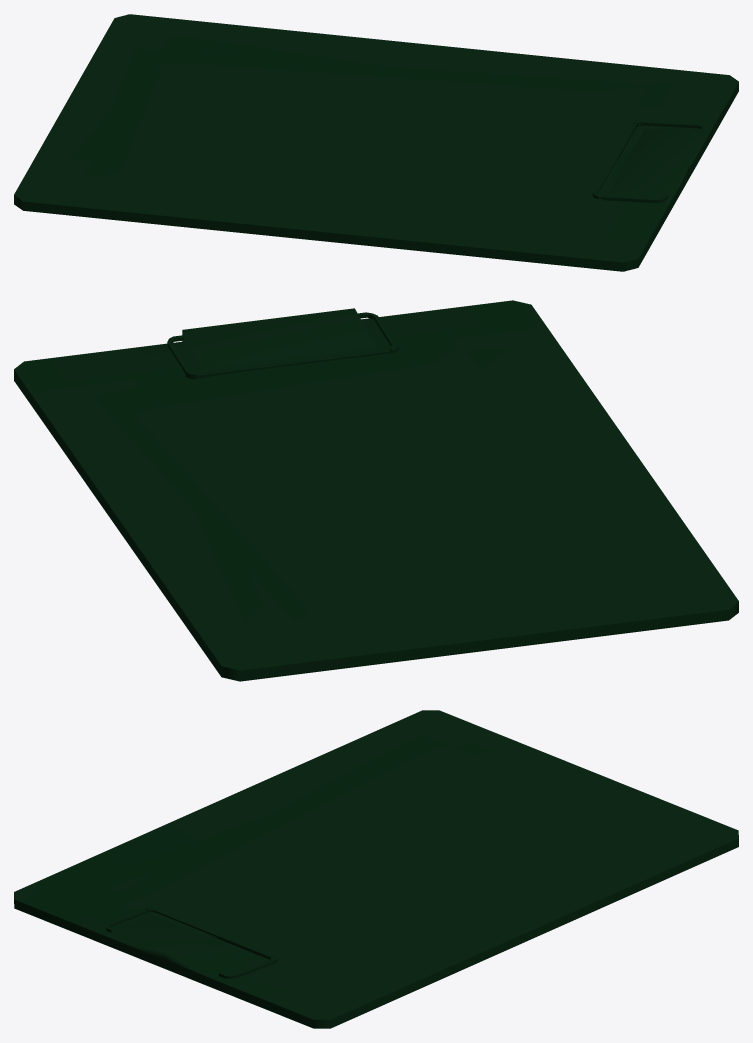
Rendered from Application Form Not Exploded Modular.fbx.
The picture shows the model from 3 angles, top to bottom: view 1: azimuth 30°, elevation 25°; view 2: azimuth 150°, elevation 25°; view 3: azimuth 270°, elevation 25°; orthographic projection. The views are drawn at different scales.
Visible parts, largest first — view 1: Paper1, Board, Paper, Part_1; view 2: Paper1, Board, Paper, Part_1; view 3: Paper1, Board, Paper, Part_1.
Boxes of the visible parts, x1=… form: Paper1: x1=82, y1=49, x2=646, y2=220; Board: x1=14, y1=14, x2=738, y2=271; Paper: x1=65, y1=35, x2=662, y2=237; Part_1: x1=592, y1=119, x2=705, y2=202; Paper1: x1=91, y1=338, x2=669, y2=639; Board: x1=14, y1=300, x2=738, y2=681; Paper: x1=134, y1=347, x2=626, y2=633; Part_1: x1=167, y1=312, x2=398, y2=379; Paper1: x1=106, y1=735, x2=663, y2=982; Board: x1=14, y1=710, x2=738, y2=1028; Paper: x1=94, y1=742, x2=675, y2=979; Part_1: x1=106, y1=906, x2=277, y2=978.
Size of the model in its own units: 49.37 by 1.41 by 48.93.
